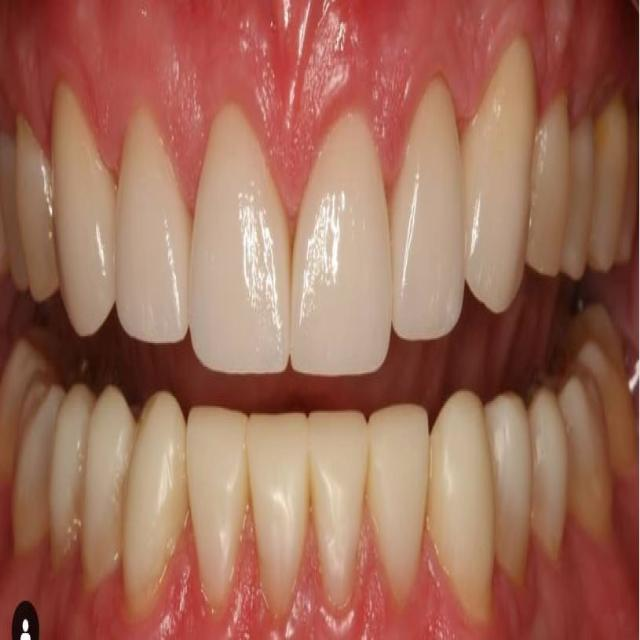1st Molar: (10, 375, 65, 550), (558, 375, 615, 538), (590, 99, 638, 269)
1st Premolar: (80, 387, 135, 587), (487, 394, 531, 587), (527, 99, 570, 278), (17, 119, 58, 302)
2nd Molar: (569, 307, 636, 474), (0, 341, 43, 487)
2nd Premolar: (46, 386, 93, 556), (531, 393, 566, 561), (561, 119, 597, 278), (0, 137, 27, 282)
Canine: (462, 38, 537, 316), (50, 85, 115, 336), (428, 391, 496, 625), (123, 393, 189, 616)
Central Incisor: (289, 114, 393, 377), (189, 106, 291, 374), (247, 413, 311, 620), (308, 411, 369, 614)
Lateral Incisor: (392, 79, 465, 343), (115, 111, 189, 343), (369, 404, 430, 606), (186, 408, 247, 609)
